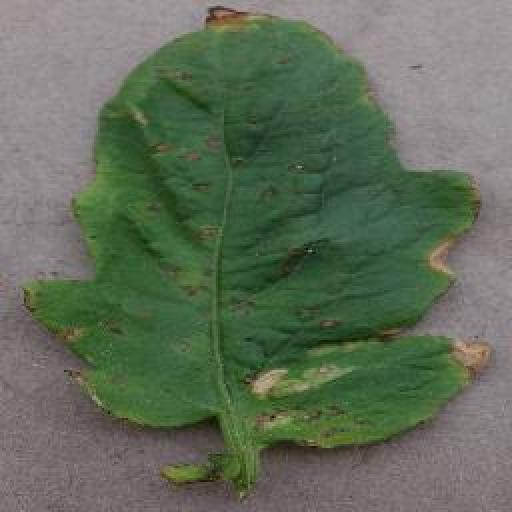Bacterial Spot: (19, 0, 499, 498)
